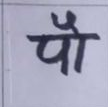au_matra: (60, 13, 91, 71)
